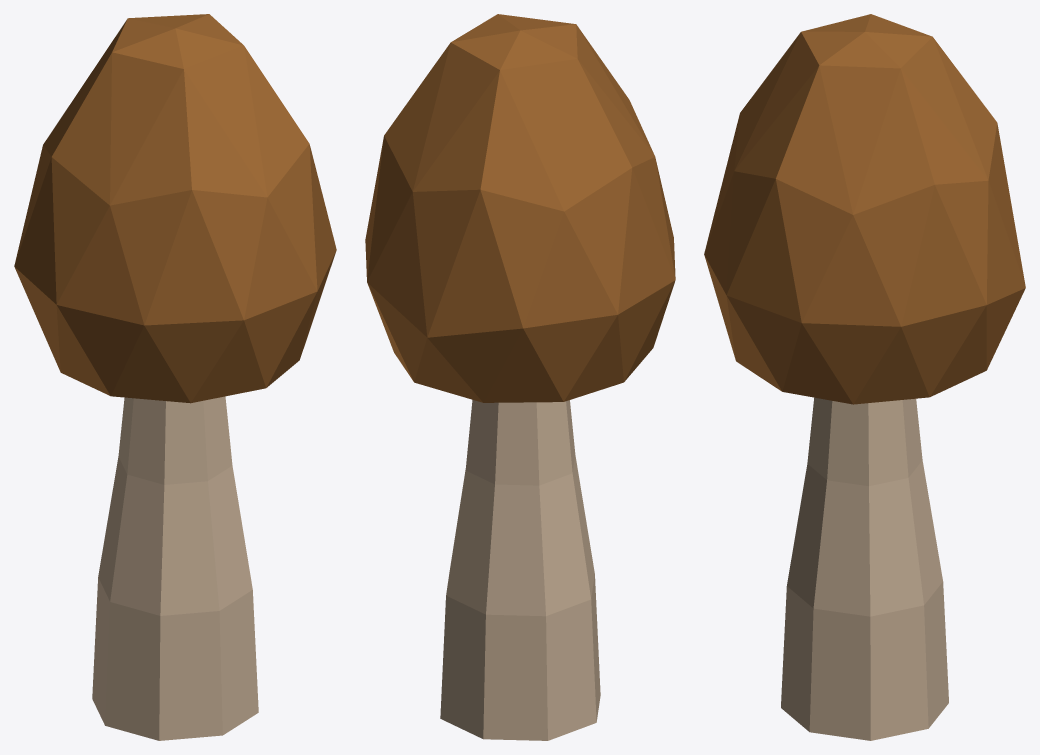
File: mushroom_06.glb
3 renders of one model, left to right at view 1: azimuth 30°, elevation 25°; view 2: azimuth 150°, elevation 25°; view 3: azimuth 270°, elevation 25°, orthographic.
Visible parts, largest first — view 1: Object_134, Object_135; view 2: Object_134, Object_135; view 3: Object_134, Object_135.
Part boxes in pixels (<box>): Object_134: <box>14,14,336,403</box>; Object_135: <box>92,396,258,740</box>; Object_134: <box>365,14,675,402</box>; Object_135: <box>440,400,600,740</box>; Object_134: <box>704,14,1025,404</box>; Object_135: <box>781,397,948,740</box>.
Size of the model in its own units: 0.4216 by 0.9952 by 0.4309.
